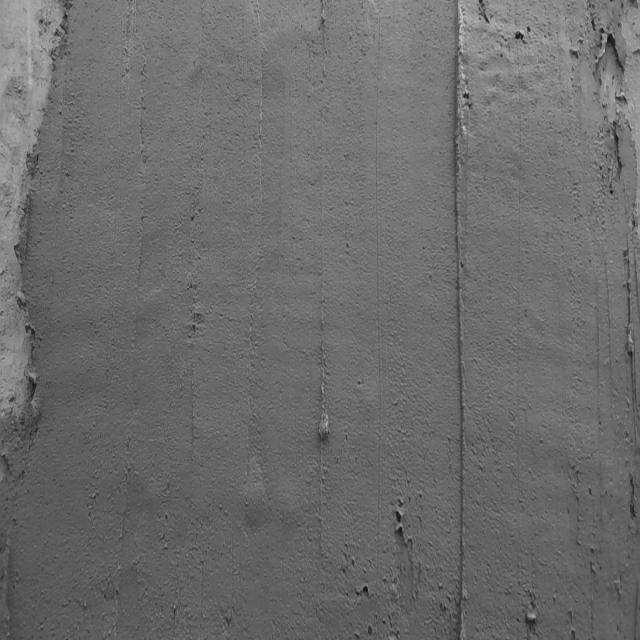trowels marks: (449, 5, 470, 622), (316, 272, 328, 524)
